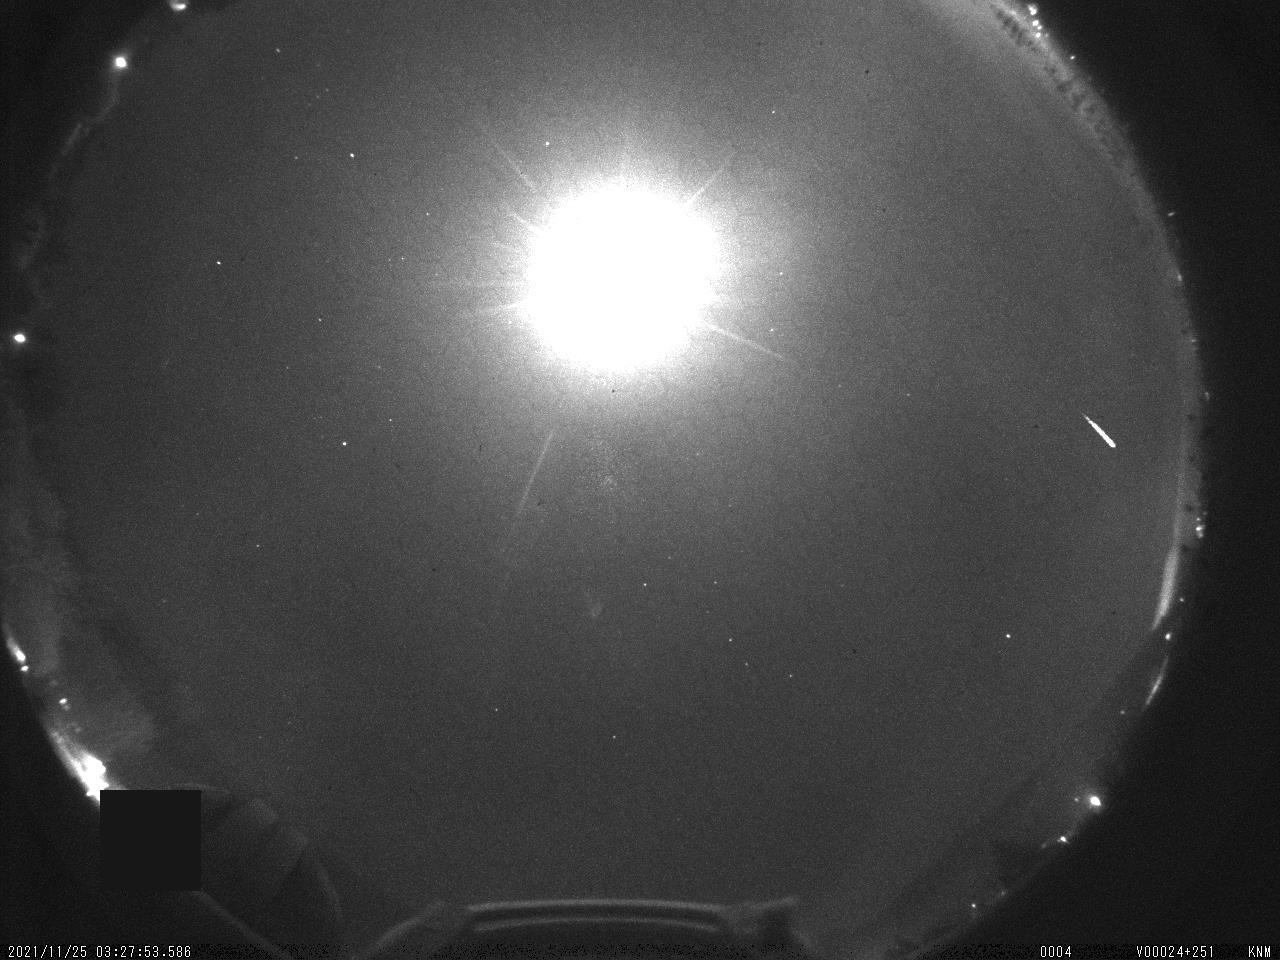meteor: (1070, 403, 1126, 460)
